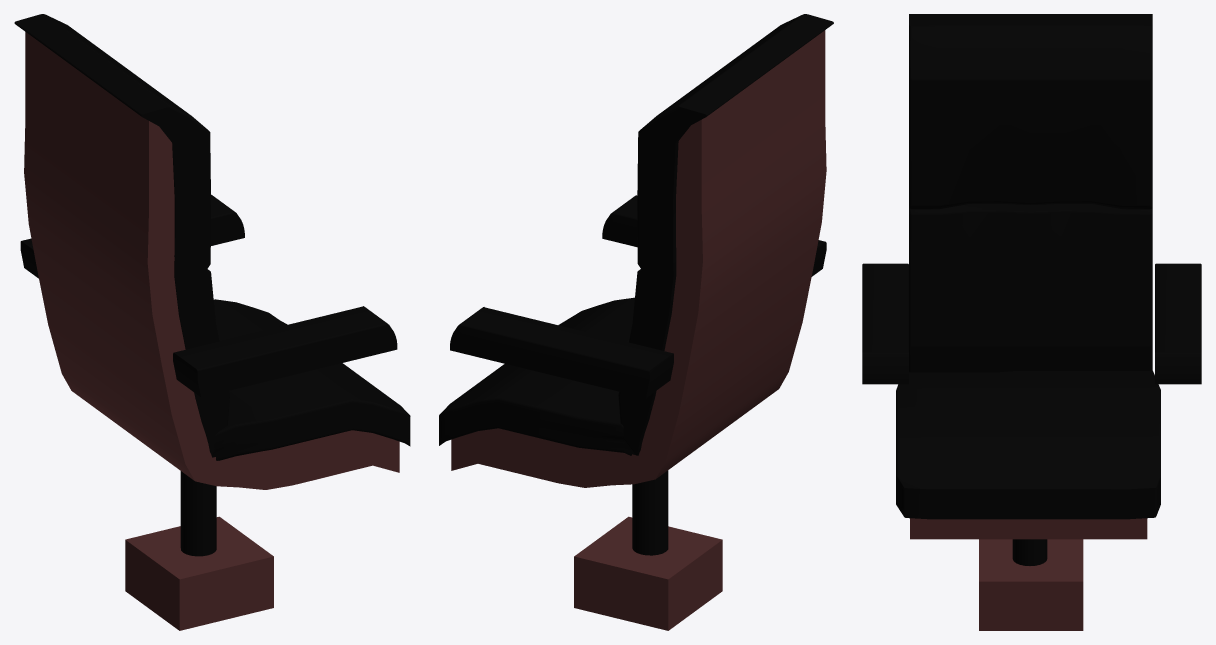
The model's file is Principal_Chair.fbx.
3 views of the same model, side by side, from view 1: azimuth 30°, elevation 25°; view 2: azimuth 150°, elevation 25°; view 3: azimuth 270°, elevation 25° (orthographic). The views are drawn at different scales.
Parts seen in each view (by area): view 1: pCube3, pCube4, pCube5, pCube2, pCube7, pCylinder1, pCube6; view 2: pCube3, pCube4, pCube5, pCube2, pCube6, pCylinder1, pCube7; view 3: pCube4, pCube5, pCube2, pCube6, pCube7, pCube3, pCylinder1.
Part boxes in pixels (<box>): pCube3: <box>24,32,399,489</box>; pCube4: <box>14,14,229,455</box>; pCube5: <box>212,299,410,460</box>; pCube2: <box>125,516,273,630</box>; pCube7: <box>173,306,397,397</box>; pCylinder1: <box>180,471,216,556</box>; pCube6: <box>20,194,244,278</box>; pCube3: <box>451,30,826,487</box>; pCube4: <box>618,14,833,455</box>; pCube5: <box>439,297,638,455</box>; pCube2: <box>574,516,722,630</box>; pCube6: <box>450,307,673,397</box>; pCylinder1: <box>632,470,668,555</box>; pCube7: <box>602,195,826,276</box>; pCube4: <box>909,14,1152,372</box>; pCube5: <box>896,370,1160,519</box>; pCube2: <box>979,539,1083,630</box>; pCube6: <box>1155,263,1201,384</box>; pCube7: <box>862,263,908,384</box>; pCube3: <box>910,518,1147,539</box>; pCylinder1: <box>1012,539,1047,565</box>.
Bounding box in the file's own units: 0.2528 × 0.5038 × 0.2873.
